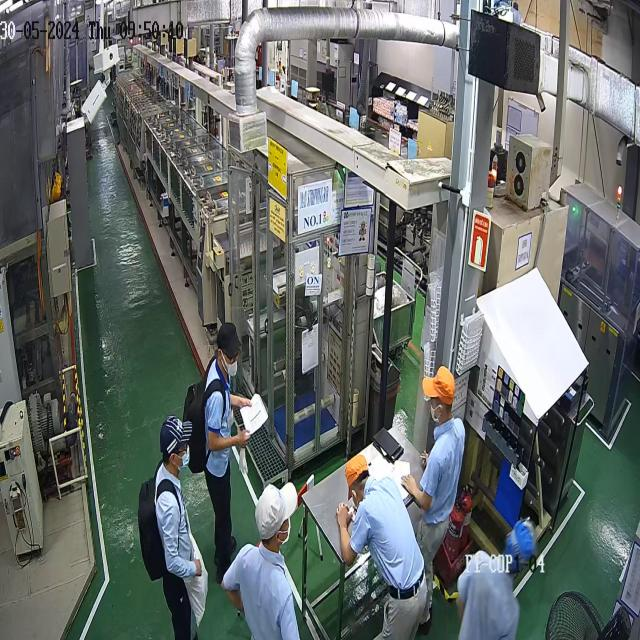Person: (400, 365, 466, 635), (336, 453, 428, 639), (202, 322, 252, 584), (220, 482, 301, 640), (153, 415, 208, 639), (456, 517, 536, 639)
